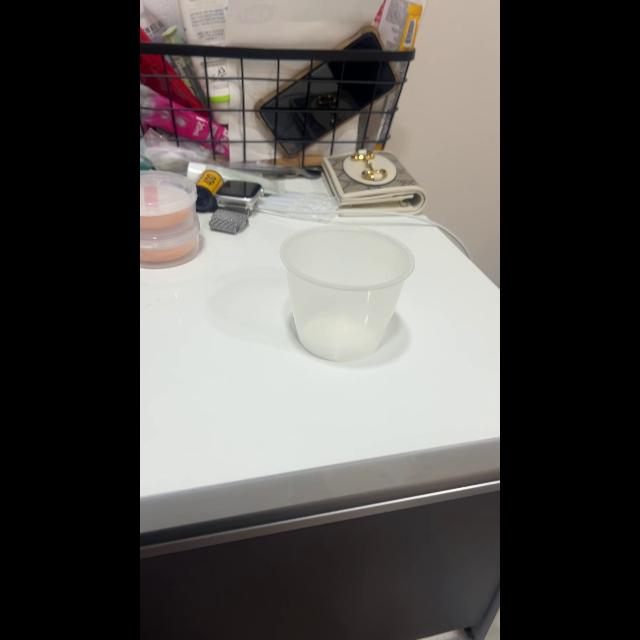clean: (286, 222, 408, 362)
